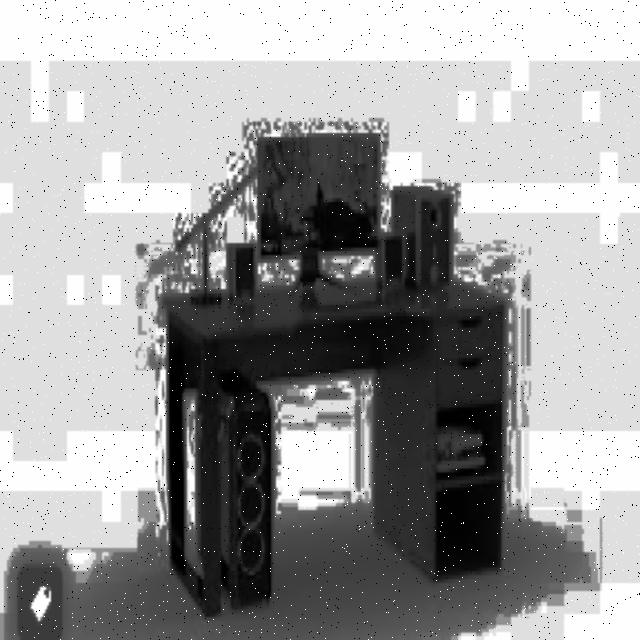table: (162, 278, 504, 613)
